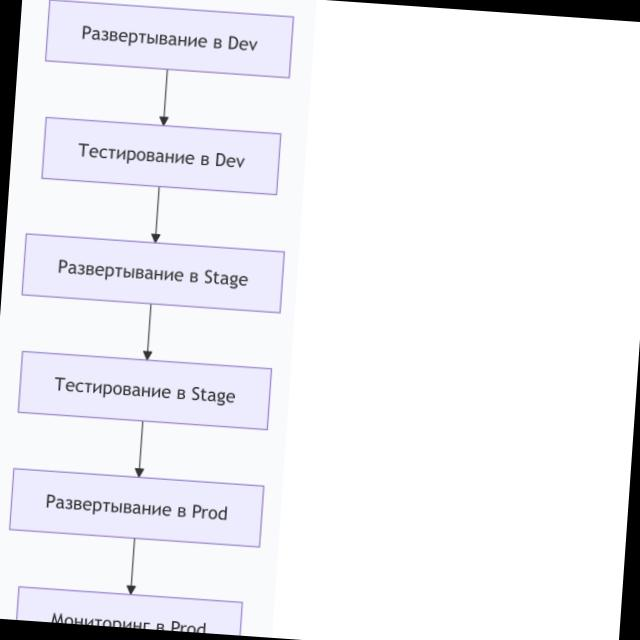arrow: (131, 422, 150, 478), (122, 540, 141, 595), (148, 187, 166, 243), (140, 305, 158, 361), (157, 69, 173, 127)
rectangle: (20, 231, 288, 316), (15, 348, 274, 432), (7, 465, 266, 549), (39, 114, 283, 197), (42, 0, 294, 80)
